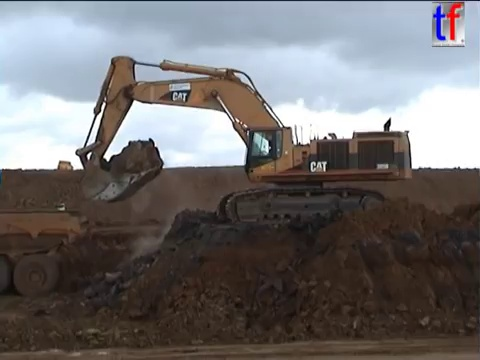excavator: (73, 52, 415, 231)
truck: (1, 207, 90, 299), (56, 159, 74, 175)
worker: (52, 196, 68, 230)
